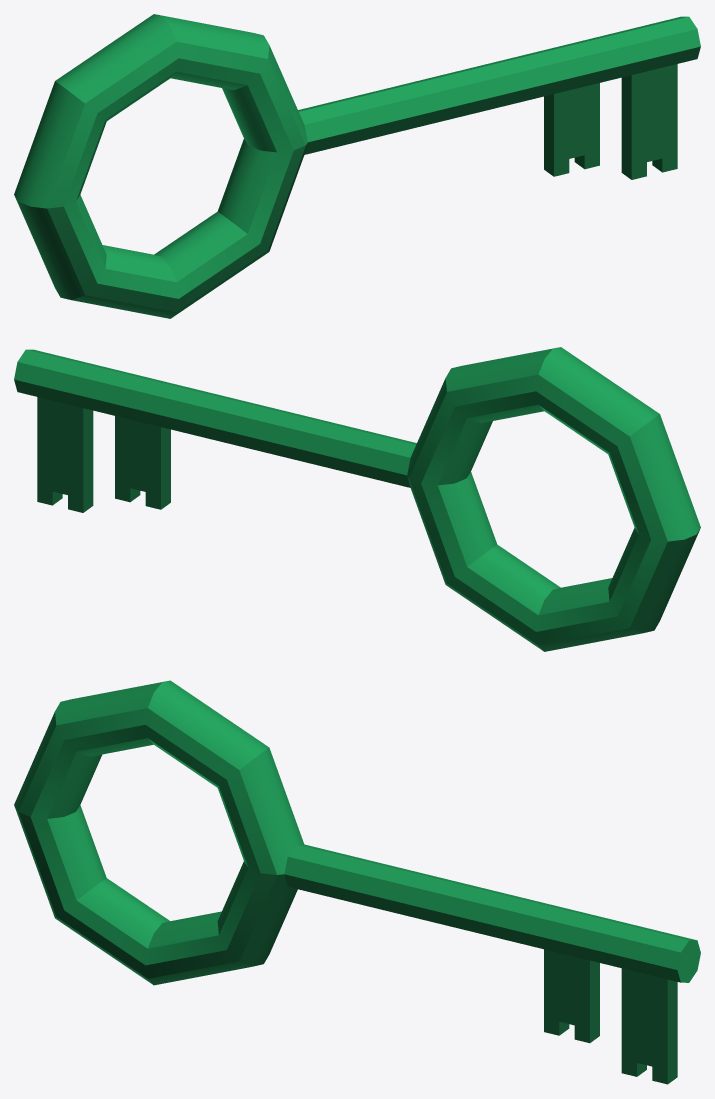
The model's file is Chave_VERDE.fbx.
3 views of the same model, one above another, from view 1: azimuth 30°, elevation 25°; view 2: azimuth 150°, elevation 25°; view 3: azimuth 330°, elevation 25° (orthographic).
Visible parts, largest first — view 1: Torus; view 2: Torus; view 3: Torus.
Part boxes in pixels (x1=…): Torus: x1=14, y1=14, x2=700, y2=318; Torus: x1=14, y1=347, x2=700, y2=651; Torus: x1=14, y1=680, x2=700, y2=1084.
Size of the model in its own units: 362 by 155 by 30.99.
Materials: 1 (1 with a texture image).
